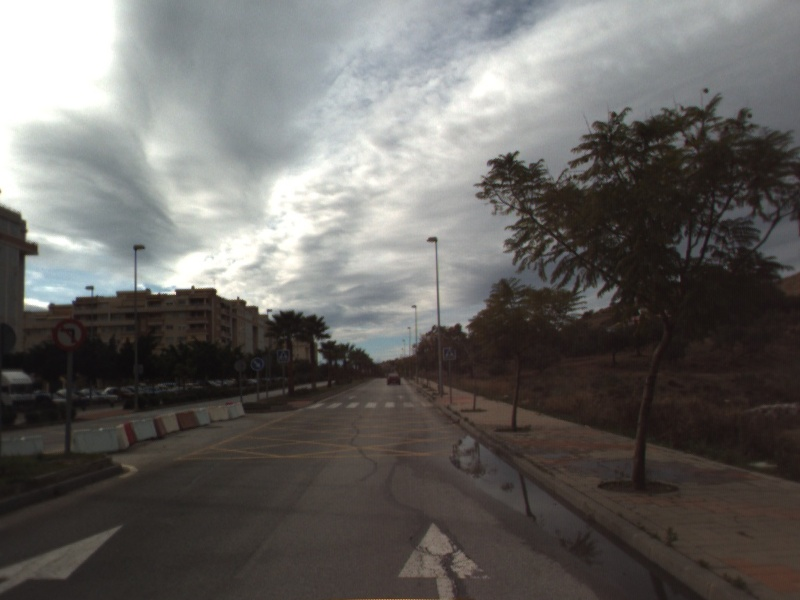STRAIGHT: (1, 519, 128, 595), (394, 518, 497, 600)
